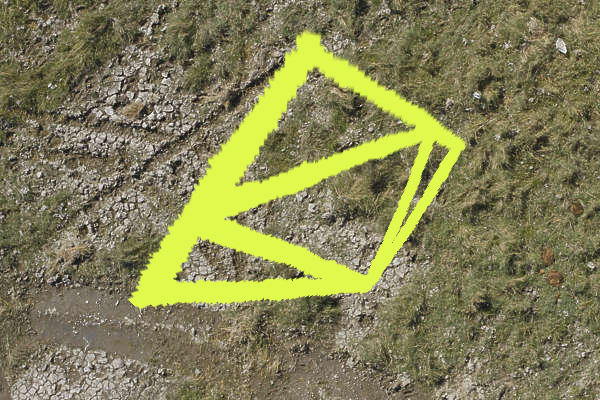marker: (122, 29, 470, 315)
